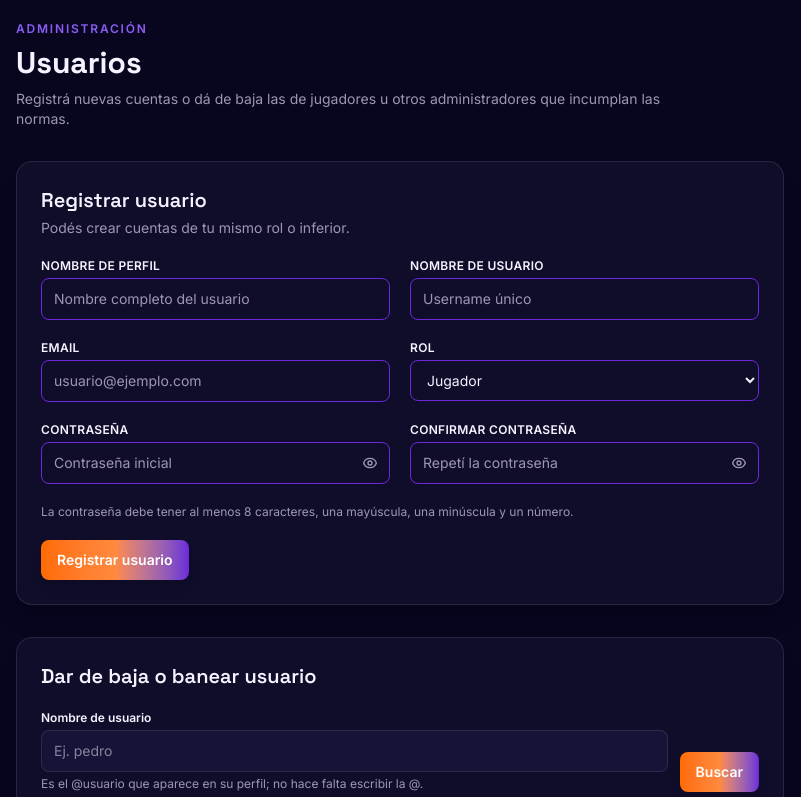
Test: UsuariosPage - US 50 Eliminar cuenta de usuario › avisa si falla la búsqueda
Type "pedro" into the field labelled "Nombre de usuario". click: (354, 751)
box: x1=41 y1=730 x2=668 y2=772
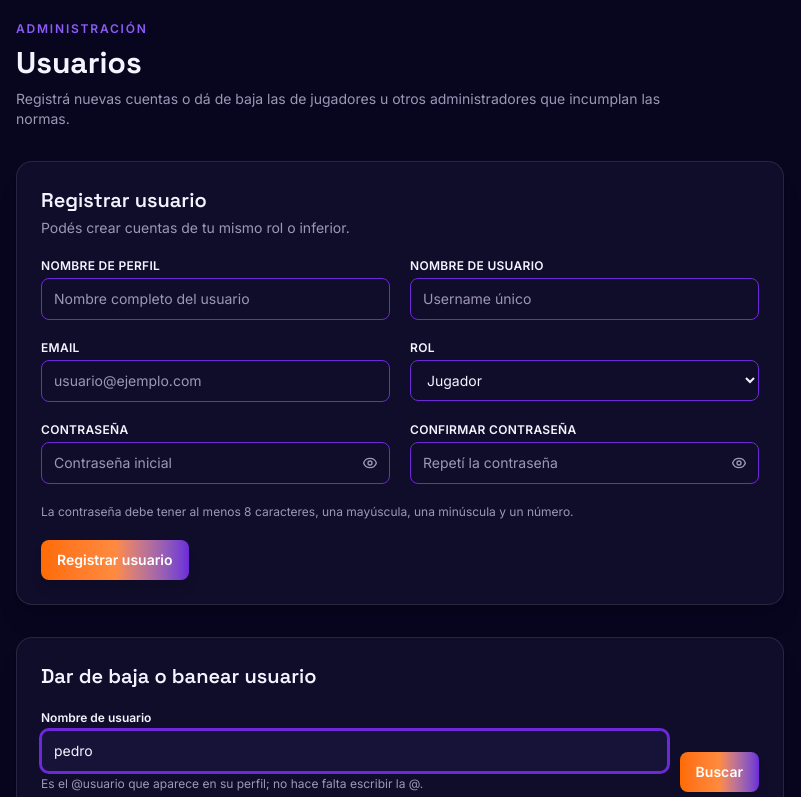
Click the button "Buscar". click: (719, 772)
box: x1=680 y1=752 x2=759 y2=792
(page scrolled)
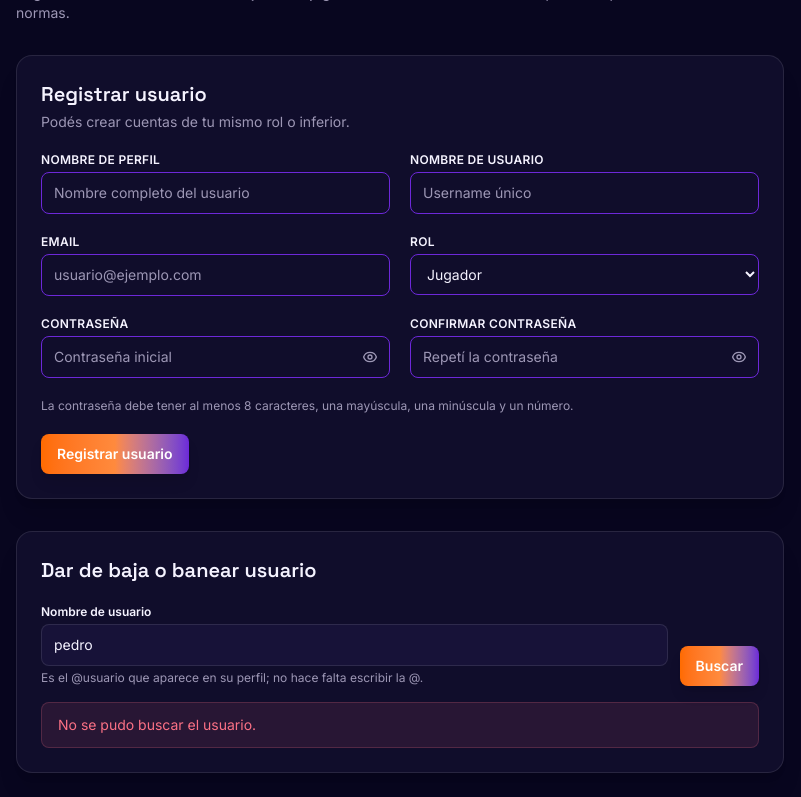
Result: the text "No se pudo buscar el usuario." is shown at x1=58 y1=716 x2=256 y2=733
